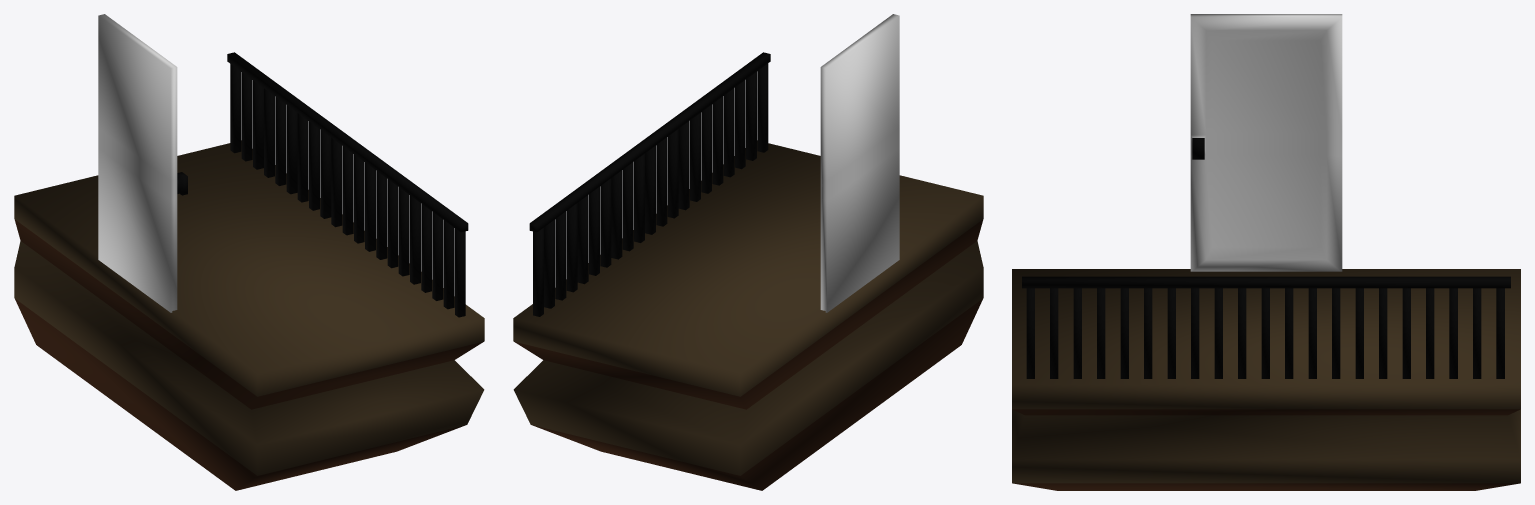
File: Tile.obj
The picture shows the model from 3 angles, left to right: view 1: azimuth 30°, elevation 25°; view 2: azimuth 150°, elevation 25°; view 3: azimuth 270°, elevation 25°; orthographic projection. The views are drawn at different scales.
Parts seen in each view (by area): view 1: Cube.001, Cube.004, Cube.002, Cube.003; view 2: Cube.001, Cube.002, Cube.004, Cube.003; view 3: Cube.001, Cube.004, Cube.002, Cube.003.
Part boxes in pixels (<box>): Cube.001: <box>14,140,484,490</box>; Cube.004: <box>98,14,187,312</box>; Cube.002: <box>230,64,465,317</box>; Cube.003: <box>227,52,468,232</box>; Cube.001: <box>513,140,983,490</box>; Cube.002: <box>533,63,768,316</box>; Cube.004: <box>820,14,899,312</box>; Cube.003: <box>529,52,770,232</box>; Cube.001: <box>1012,269,1520,490</box>; Cube.004: <box>1190,14,1342,271</box>; Cube.002: <box>1026,288,1504,378</box>; Cube.003: <box>1022,276,1510,288</box>.
Bounding box in the file's own units: 1.09 × 1.71 × 2.
